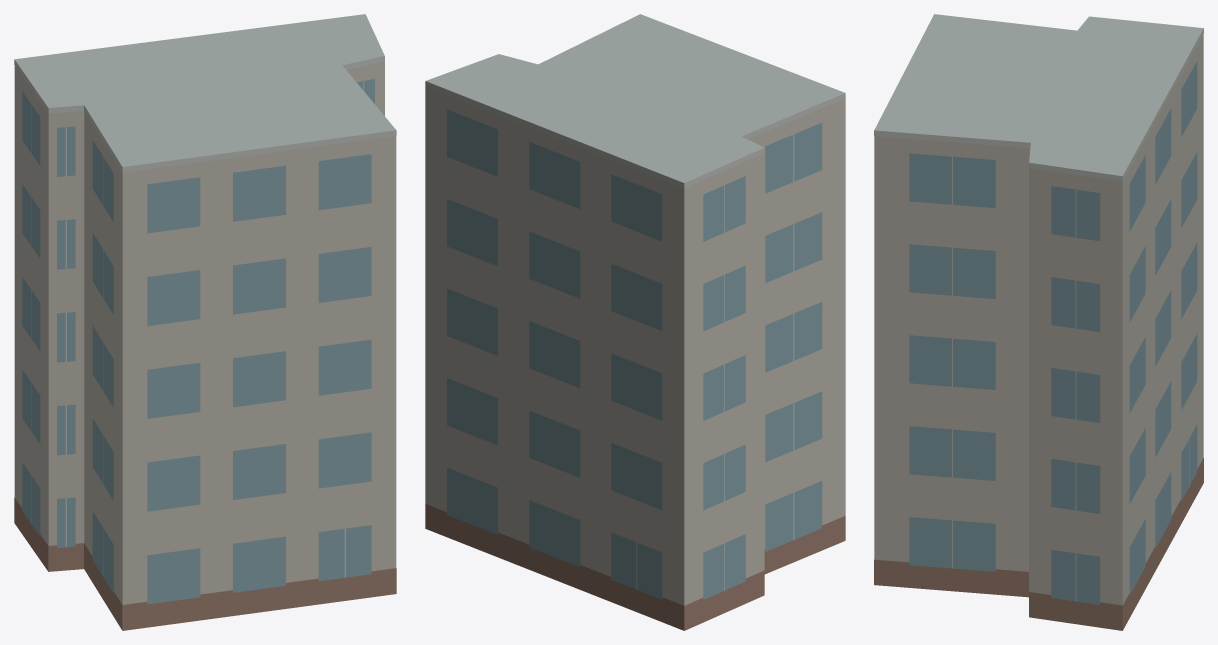
Rendered from survey-upis-32872332.glb.
3 views of the same model, side by side, from view 1: azimuth 30°, elevation 25°; view 2: azimuth 150°, elevation 25°; view 3: azimuth 270°, elevation 25° (orthographic). The views are drawn at different scales.
Visible parts, largest first — view 1: survey-upis-32872332.tmp; view 2: survey-upis-32872332.tmp; view 3: survey-upis-32872332.tmp.
Boxes of the visible parts, x1,y1,x2,y2 form: survey-upis-32872332.tmp: (14, 14, 396, 630); survey-upis-32872332.tmp: (425, 14, 845, 630); survey-upis-32872332.tmp: (874, 14, 1203, 630).
Size of the model in its own units: 15.51 by 20.25 by 13.32.
